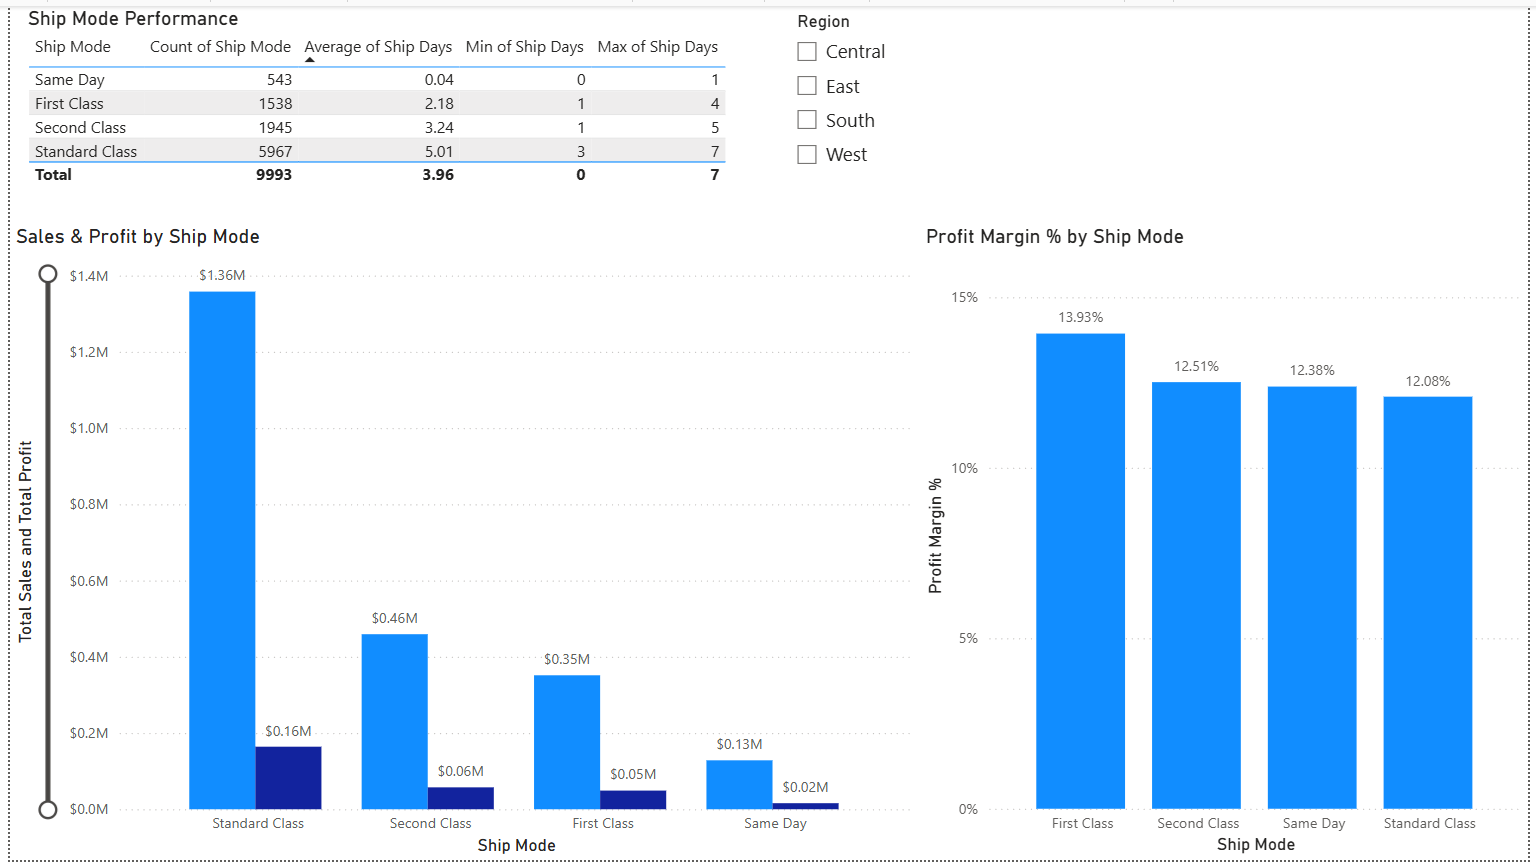

The dashboard page shown, as its layout file describes it:
{"tool":"powerbi","page":{"name":"Shipping Analysis","canvas":[1280,720],"ordinal":6},"visuals":[{"type":"tableEx","title":"Ship Mode Performance ","fields":{"Values":["RawData.Ship Mode","CountNonNull(RawData.Ship Mode)","Avg(RawData.Ship Days)","Min(RawData.Ship Days)","Max(RawData.Ship Days)"]},"box":[9.9,0,641.2,183.6],"z":0},{"type":"clusteredColumnChart","title":"Sales & Profit by Ship Mode","fields":{"Category":["RawData.Ship Mode"],"Y":["Sum(RawData.Sales)","Sum(RawData.Profit)"]},"box":[0,183.6,766.6,536.4],"z":1000},{"type":"slicer","fields":{"Values":["RawData.Region"]},"box":[651,0,628.7,183.6],"z":2000},{"type":"clusteredColumnChart","fields":{"Y":["RawData.Profit Margin %"],"Category":["RawData.Ship Mode"]},"box":[767,184,513,536],"z":3000}]}

Visuals, with their boxes in screenshot pixels (x1, y1, x2, y2), scaled from the page's 1280x720 canvas onto the 1536x866 screenshot:
"Ship Mode Performance " tableEx: x1=12 y1=0 x2=781 y2=221
"Sales & Profit by Ship Mode" clusteredColumnChart: x1=0 y1=221 x2=920 y2=865
slicer - RawData.Region: x1=781 y1=0 x2=1535 y2=221
clusteredColumnChart - RawData.Profit Margin % x RawData.Ship Mode: x1=920 y1=221 x2=1535 y2=865
